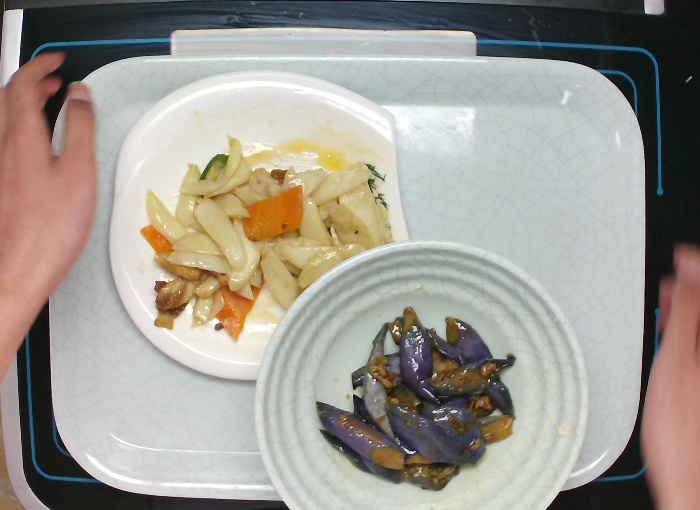JYsf-Da_Tang_Wan: (250, 234, 594, 509)
JYsf-Mian_Pan: (104, 66, 419, 386)
